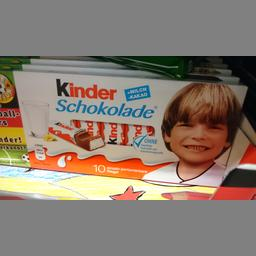chocolate: (0, 71, 248, 185)
